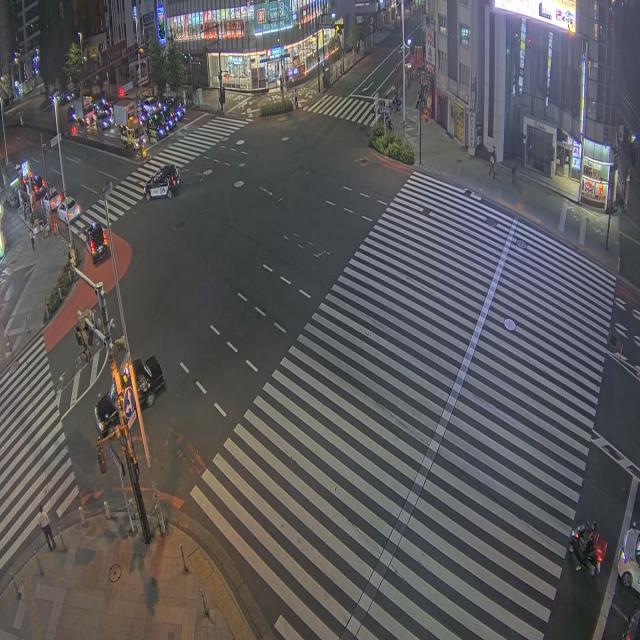car: (122, 357, 165, 410), (617, 523, 639, 591), (144, 165, 180, 200), (85, 223, 109, 263), (622, 604, 639, 639), (58, 197, 80, 223), (145, 115, 168, 139), (41, 186, 62, 212), (166, 96, 185, 119), (30, 172, 46, 199), (161, 103, 177, 128), (96, 112, 114, 129), (141, 98, 159, 113)
motorcycle: (568, 523, 607, 576)
truck: (70, 97, 94, 124), (114, 100, 135, 127)
